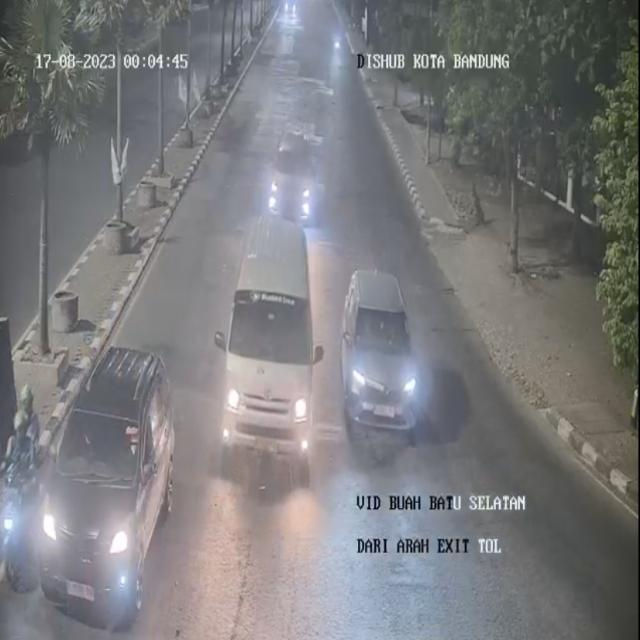cars: (38, 340, 174, 622), (222, 224, 322, 474), (342, 263, 422, 447), (269, 126, 319, 239)
motorcycle: (0, 382, 39, 583)
